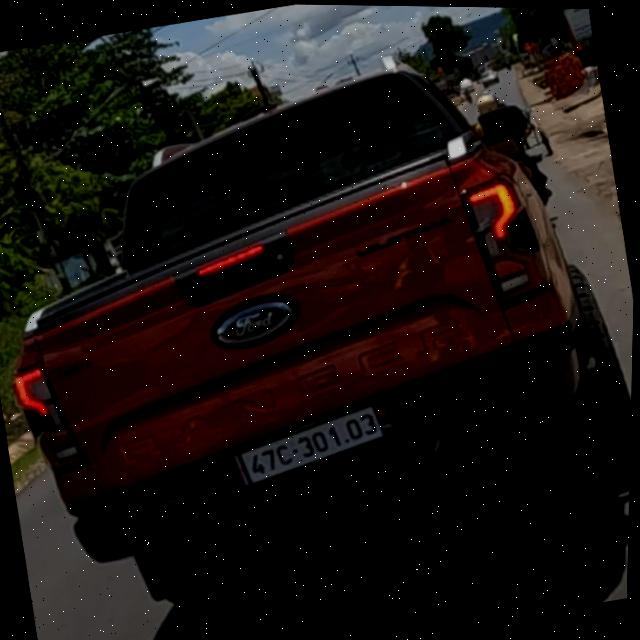car: (0, 19, 640, 640)
plate: (223, 395, 406, 495)
